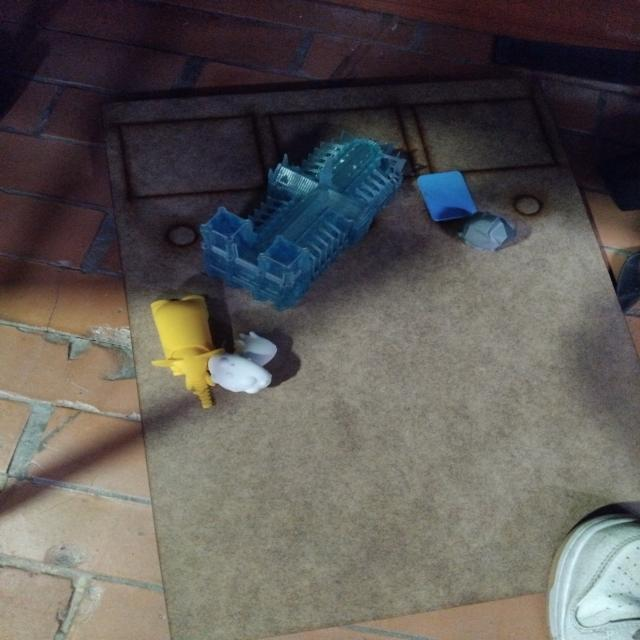Hongo: (202, 326, 292, 403)
